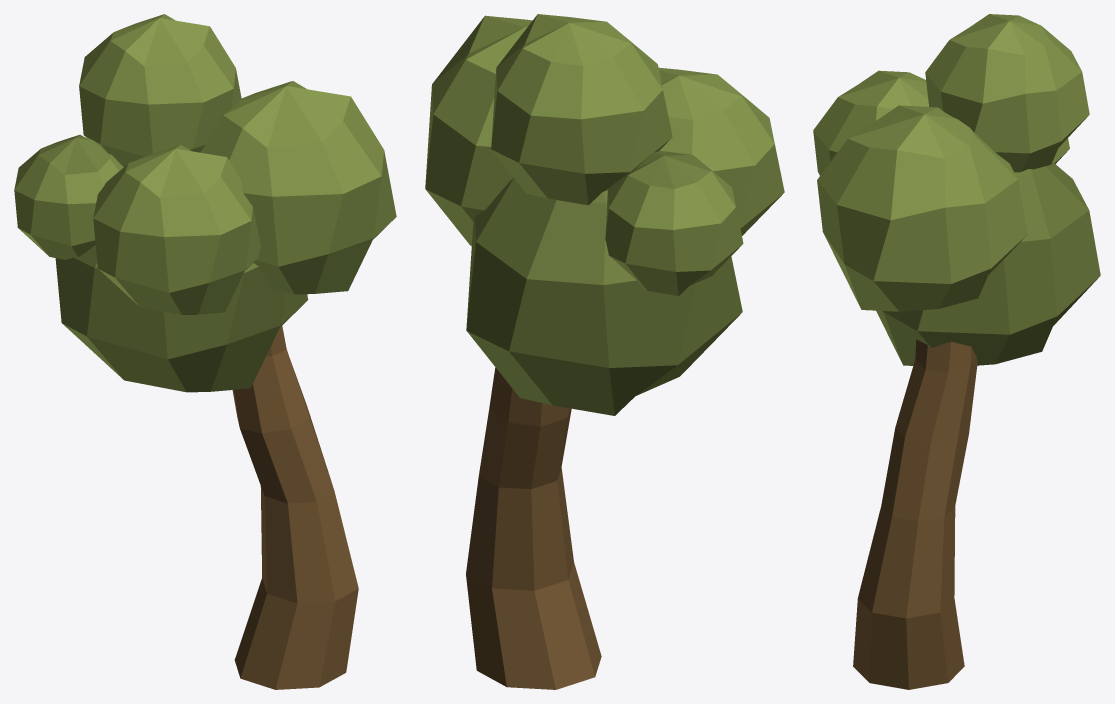
The model's file is Tree_4.FBX.
3 renders of one model, left to right at view 1: azimuth 30°, elevation 25°; view 2: azimuth 150°, elevation 25°; view 3: azimuth 270°, elevation 25°, orthographic. The views are drawn at different scales.
Parts seen in each view (by area): view 1: Tree_4; view 2: Tree_4; view 3: Tree_4.
Part boxes in pixels (<box>): Tree_4: <box>14,14,396,689</box>; Tree_4: <box>425,14,784,689</box>; Tree_4: <box>813,14,1100,689</box>.
Bounding box in the file's own units: 2.68 × 5.22 × 2.24.
1 material, 1 textured.
